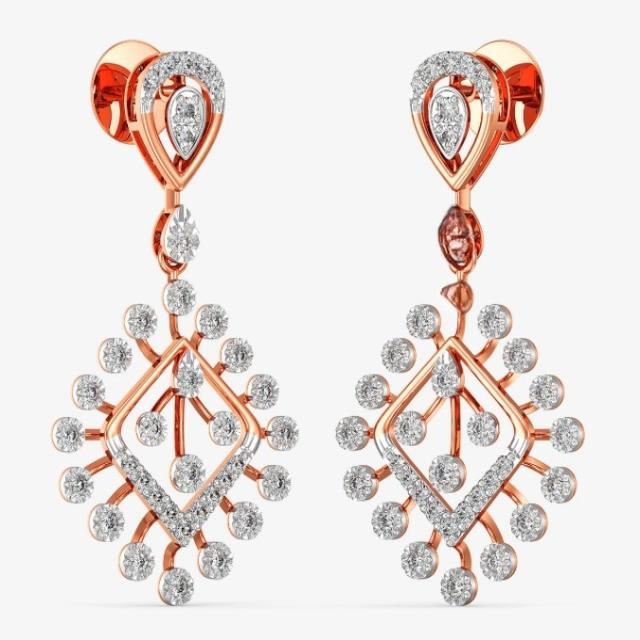missing gem: (439, 205, 484, 277), (437, 280, 471, 317)
